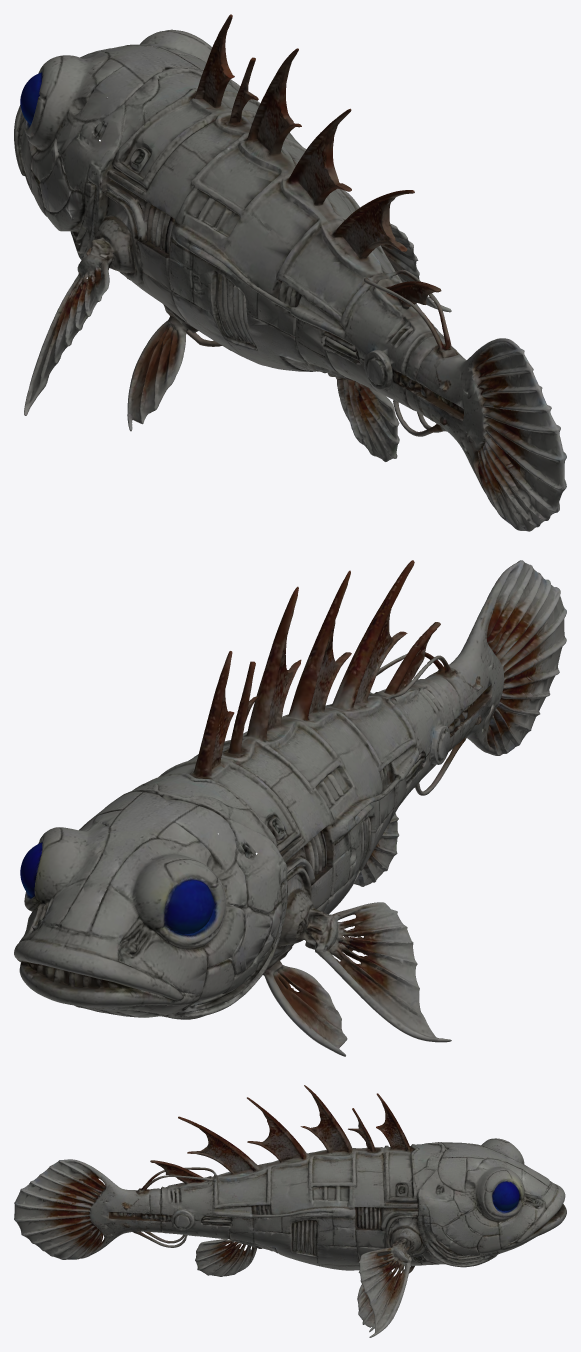
The model's file is byu.glb.
3 views of the same model, one above another, from view 1: azimuth 30°, elevation 25°; view 2: azimuth 150°, elevation 25°; view 3: azimuth 270°, elevation 25° (orthographic). The views are drawn at different scales.
Visible parts, largest first — view 1: tripo_node_583abbc7-65d8-49a5-8c07-1d2c7e1eced9; view 2: tripo_node_583abbc7-65d8-49a5-8c07-1d2c7e1eced9; view 3: tripo_node_583abbc7-65d8-49a5-8c07-1d2c7e1eced9.
Part boxes in pixels (x1,y1,x2,y2): tripo_node_583abbc7-65d8-49a5-8c07-1d2c7e1eced9: (14, 14, 566, 531); tripo_node_583abbc7-65d8-49a5-8c07-1d2c7e1eced9: (14, 560, 566, 1056); tripo_node_583abbc7-65d8-49a5-8c07-1d2c7e1eced9: (14, 1085, 566, 1337).
Bounding box in the file's own units: 0.4869 × 0.4357 × 0.9989.
1 material, 1 textured.
